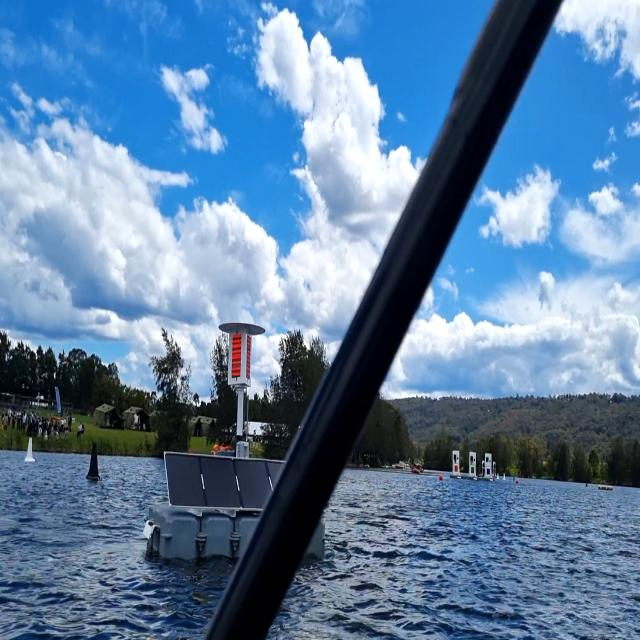led: (230, 332, 243, 382)
